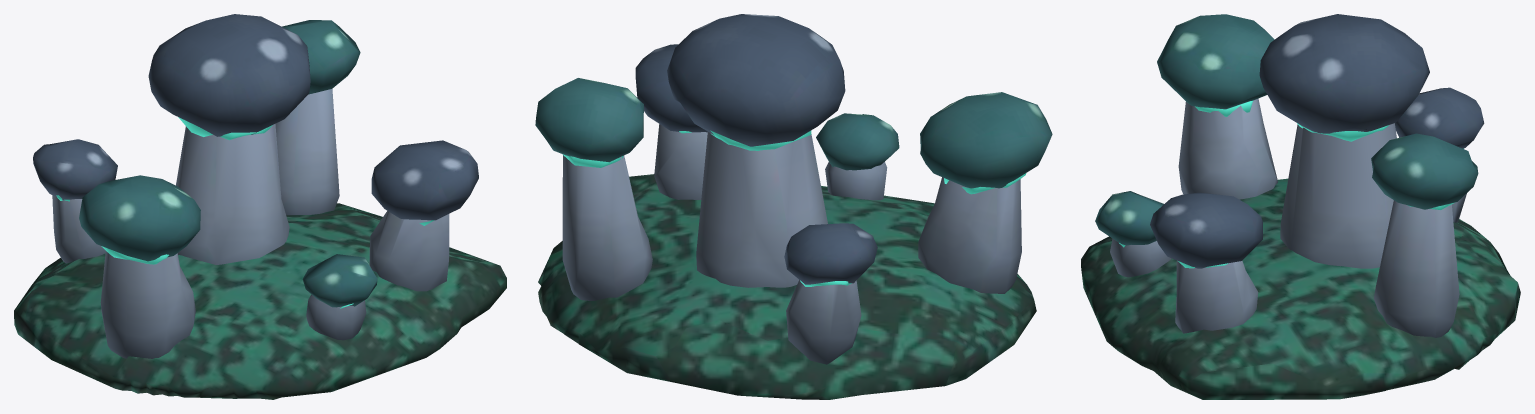
File: mushroom-cluster.glb
3 views of the same model, side by side, from view 1: azimuth 30°, elevation 25°; view 2: azimuth 150°, elevation 25°; view 3: azimuth 270°, elevation 25° (orthographic). The views are drawn at different scales.
Parts seen in each view (by area): view 1: moss, gills; view 2: moss, gills; view 3: moss, gills.
Boxes of the visible parts, box(x1,y1,x2,y2) form: moss: box(14, 14, 506, 399); gills: box(56, 117, 434, 308); moss: box(535, 14, 1052, 399); gills: box(563, 130, 1026, 286); moss: box(1081, 14, 1520, 399); gills: box(1119, 100, 1463, 268).
Size of the model in its own units: 0.3452 by 0.2105 by 0.3045.
2 materials, 2 textured.
